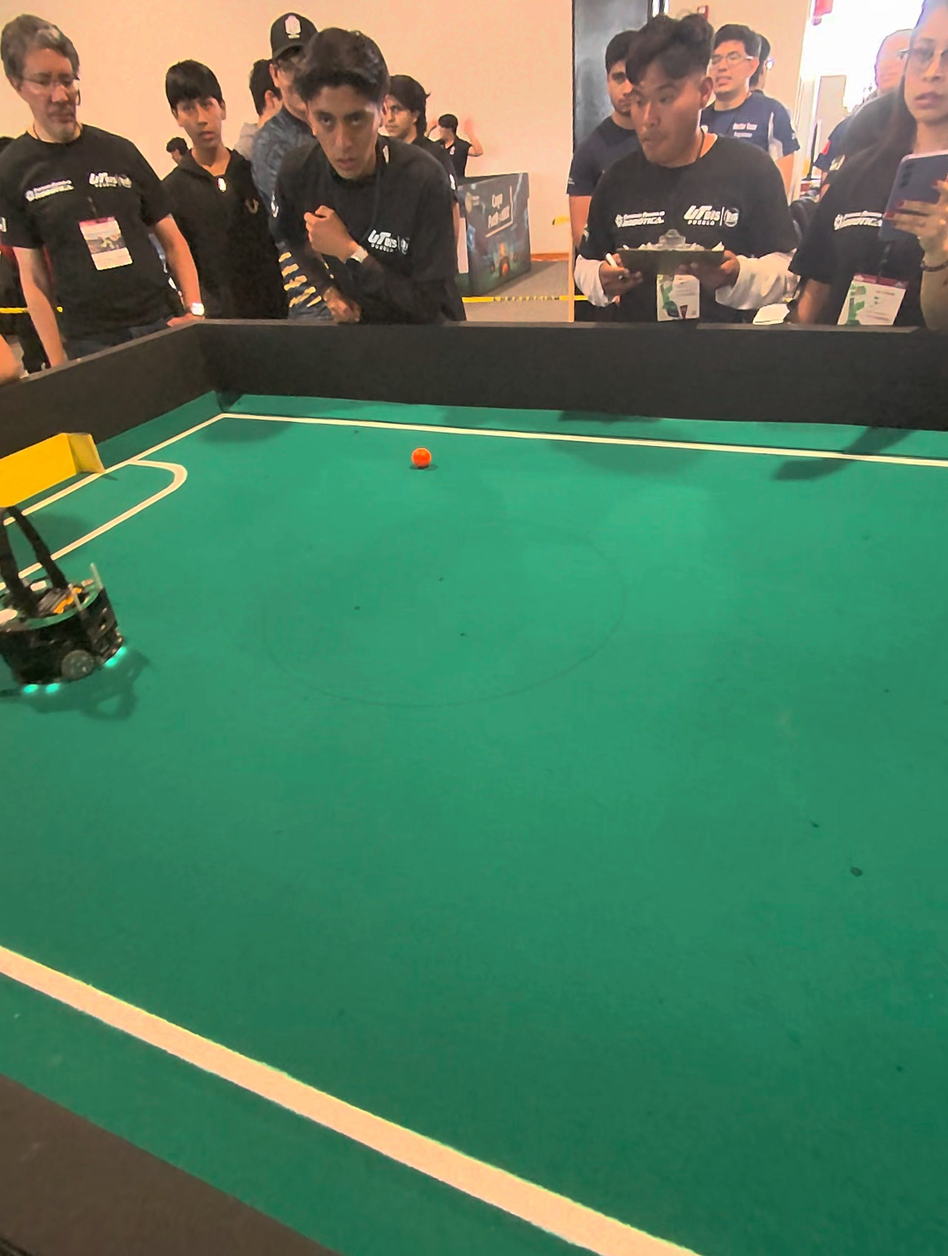Robot: (0, 489, 140, 719)
pelota: (396, 421, 447, 495)
